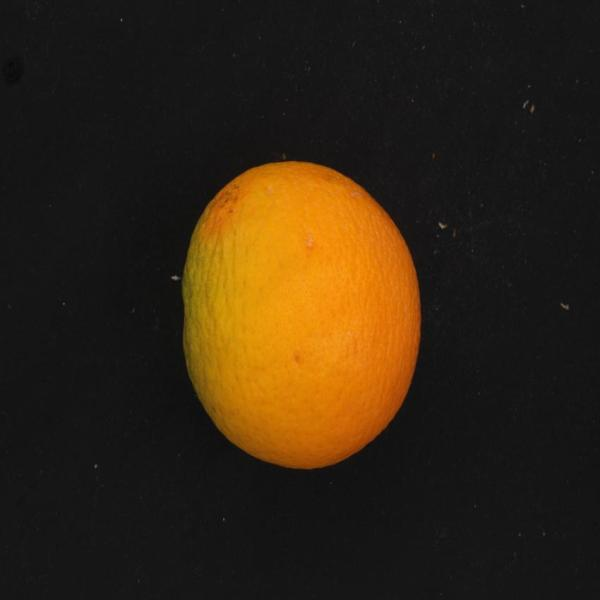Sana: (180, 138, 423, 492)
